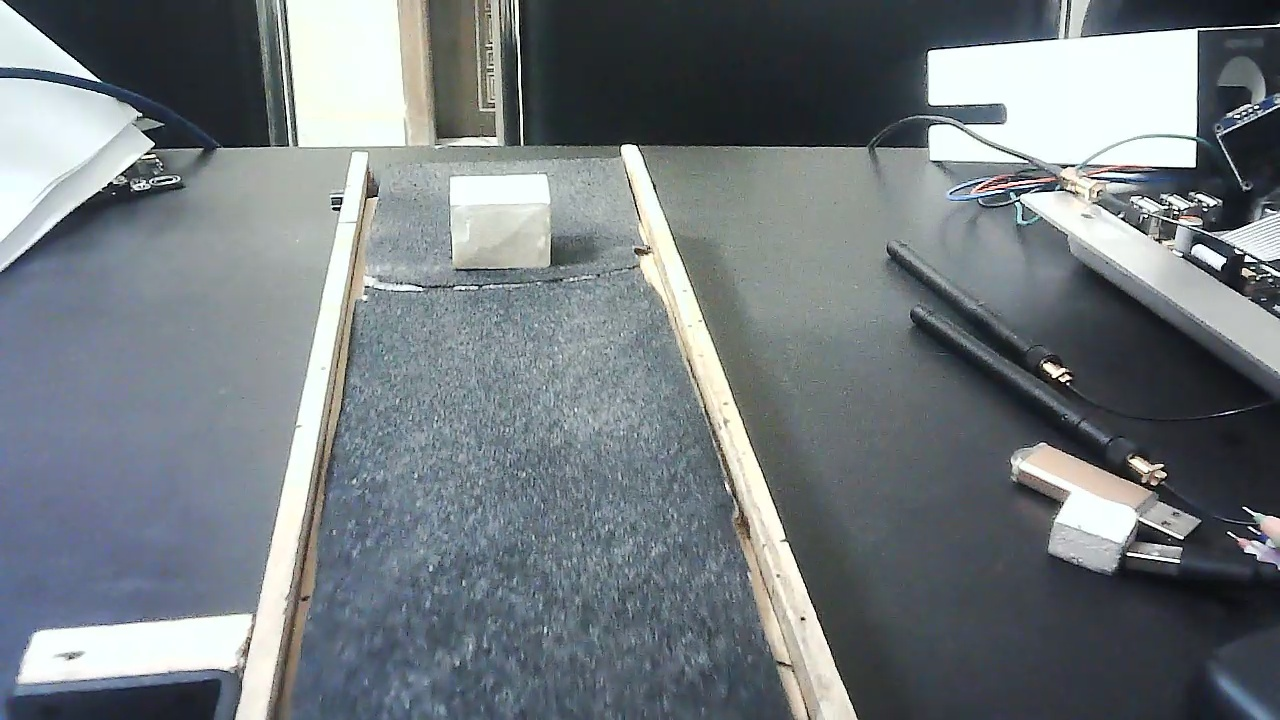Medium: (451, 172, 550, 271)
